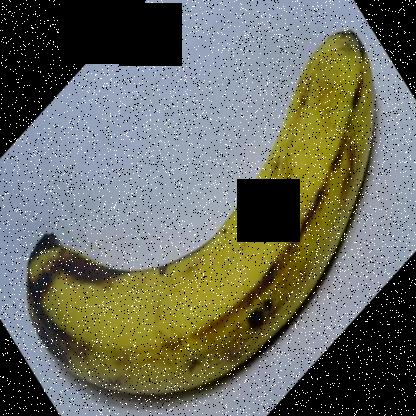ripe: (19, 19, 380, 409)
